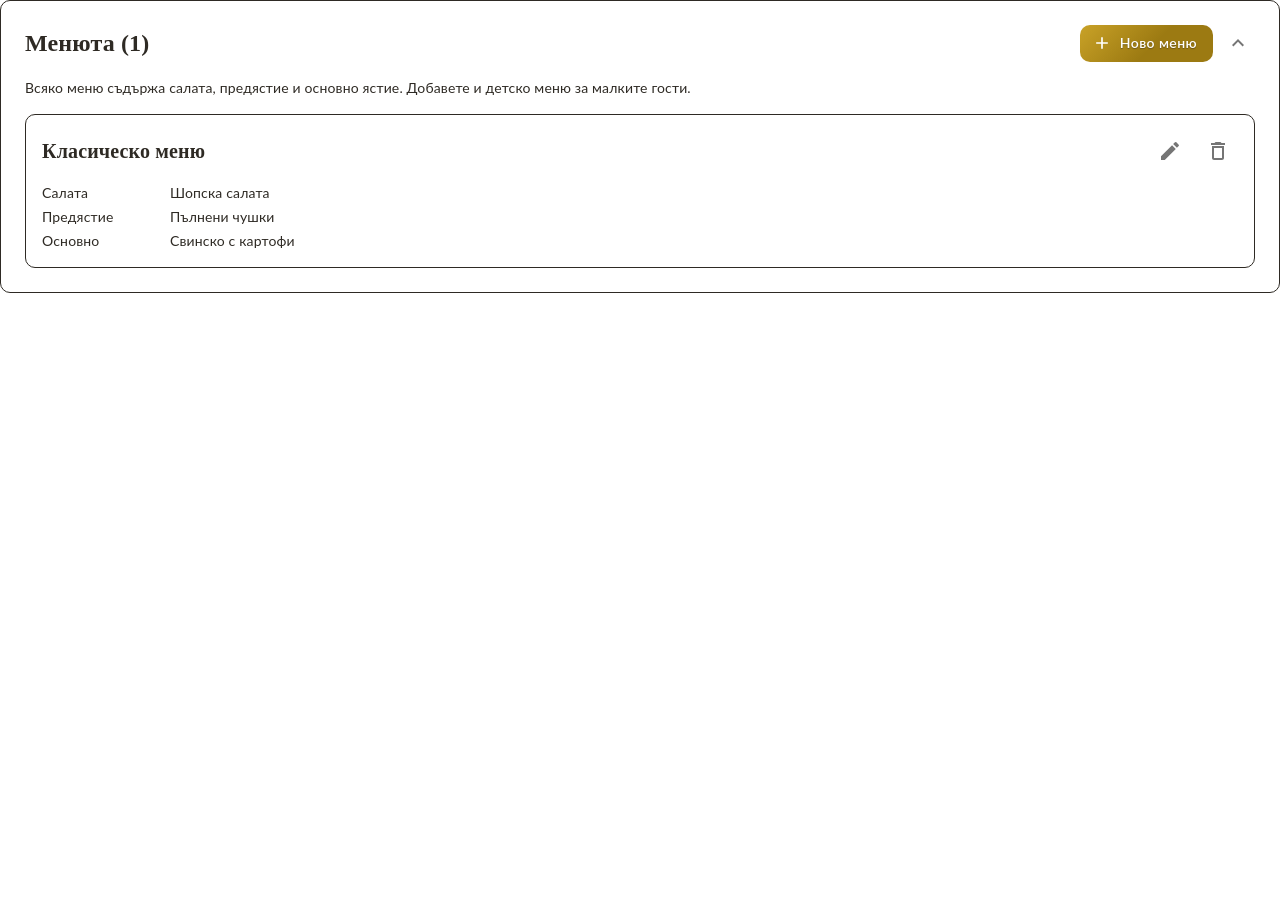
Test: MenusPanel › deletes a menu after confirmation
Click the button named "Изтрий Класическо меню": x=1218, y=150 [1198,130,1238,170]
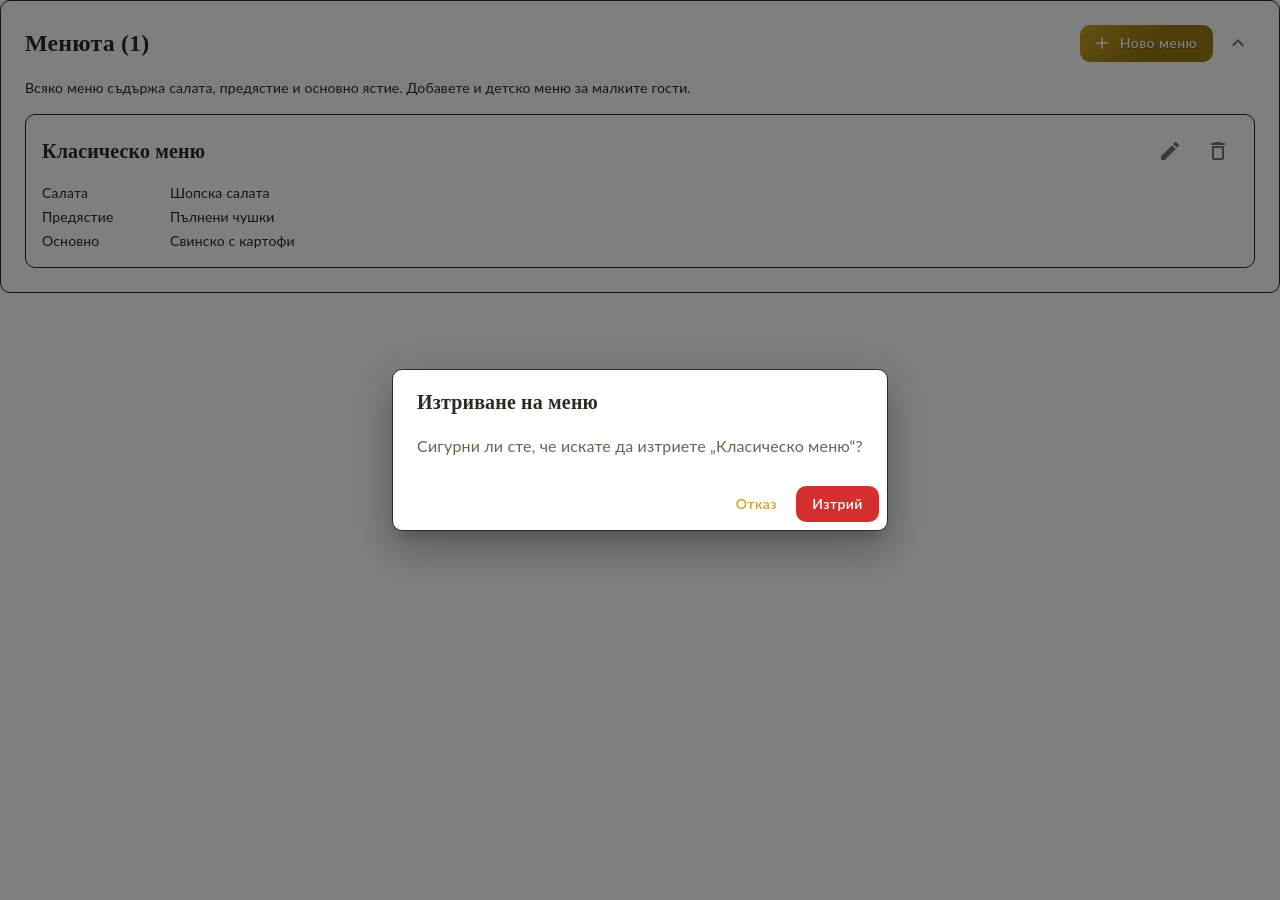
Click the button "Изтрий": x=838, y=504 [796,486,879,522]
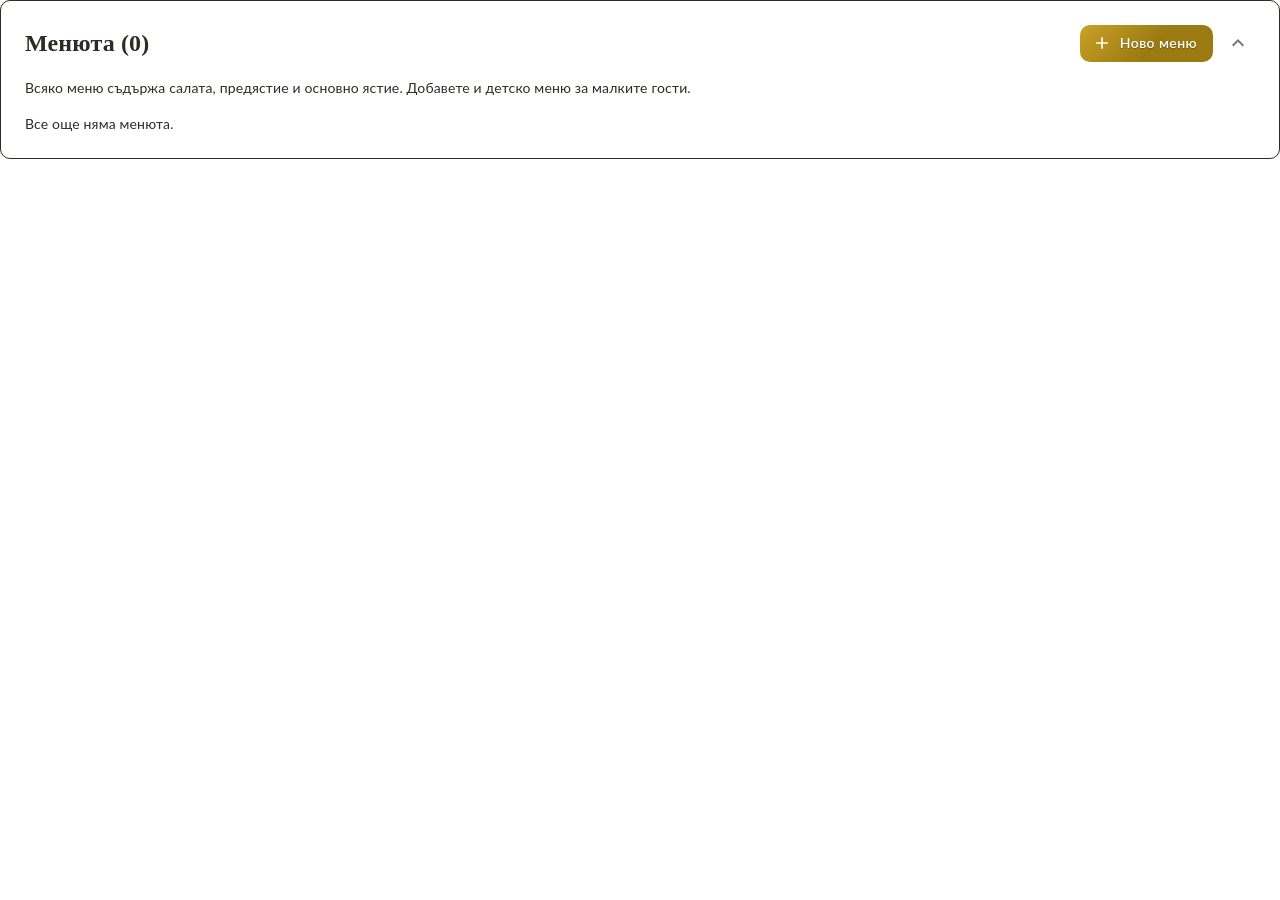
Now the heading "Класическо меню" is gone
Now the text "Все още няма менюта." is shown, box [25,114,174,132]
